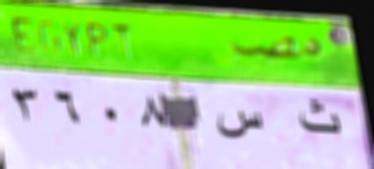0: (95, 100, 130, 134)
3: (8, 85, 43, 124)
6: (52, 83, 86, 126)
8: (138, 89, 166, 137)
seen: (216, 101, 269, 144)
thaa: (296, 95, 344, 134)
